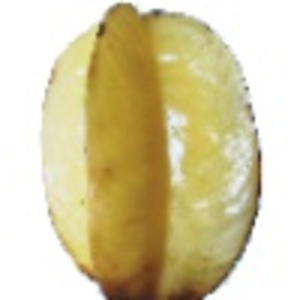carambola: (40, 1, 265, 300)
